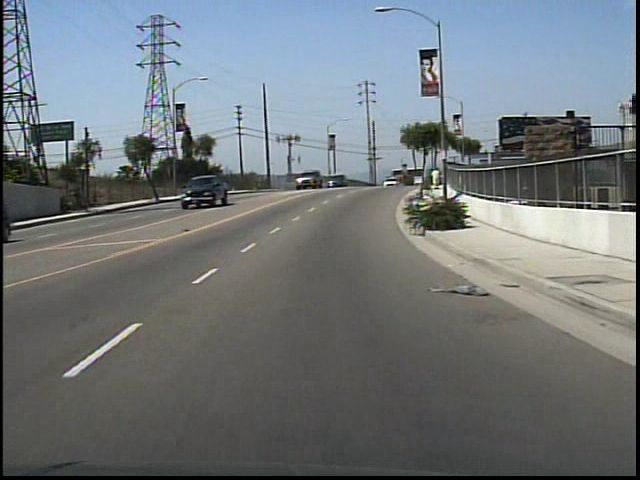person: (430, 165, 444, 193)
